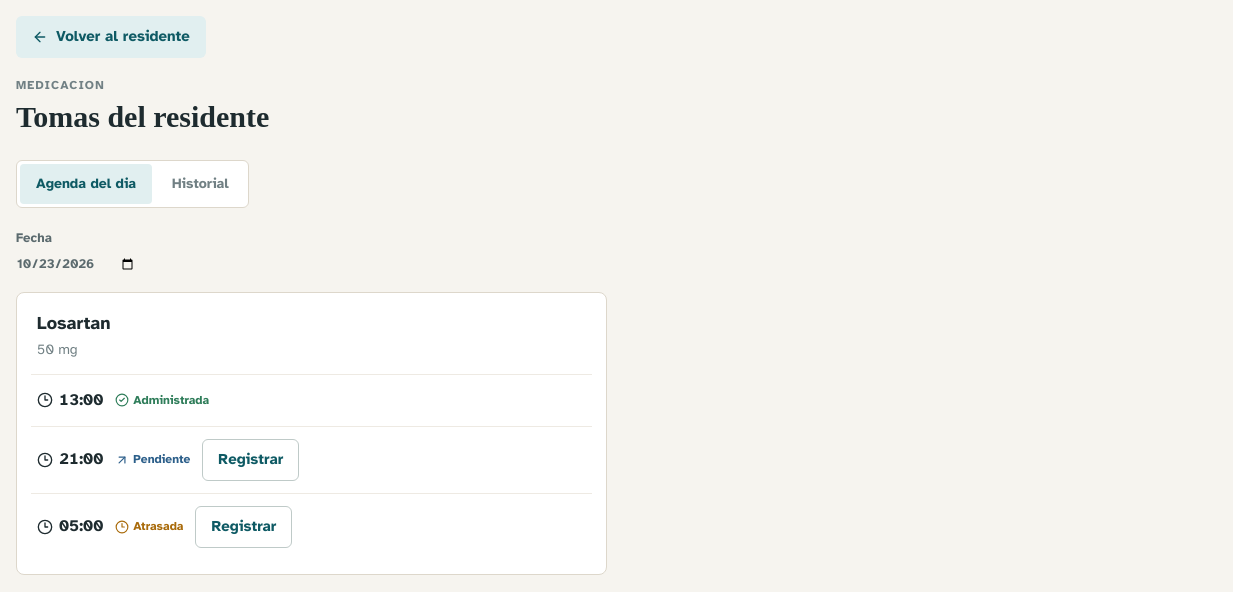
Test: TomasResidente › muestra el historial al cambiar de pestana
Expected: the text "Pendiente" is shown, [115, 450, 190, 469]
Click the tab "Historial".
click(200, 184)  # box [156, 164, 245, 204]
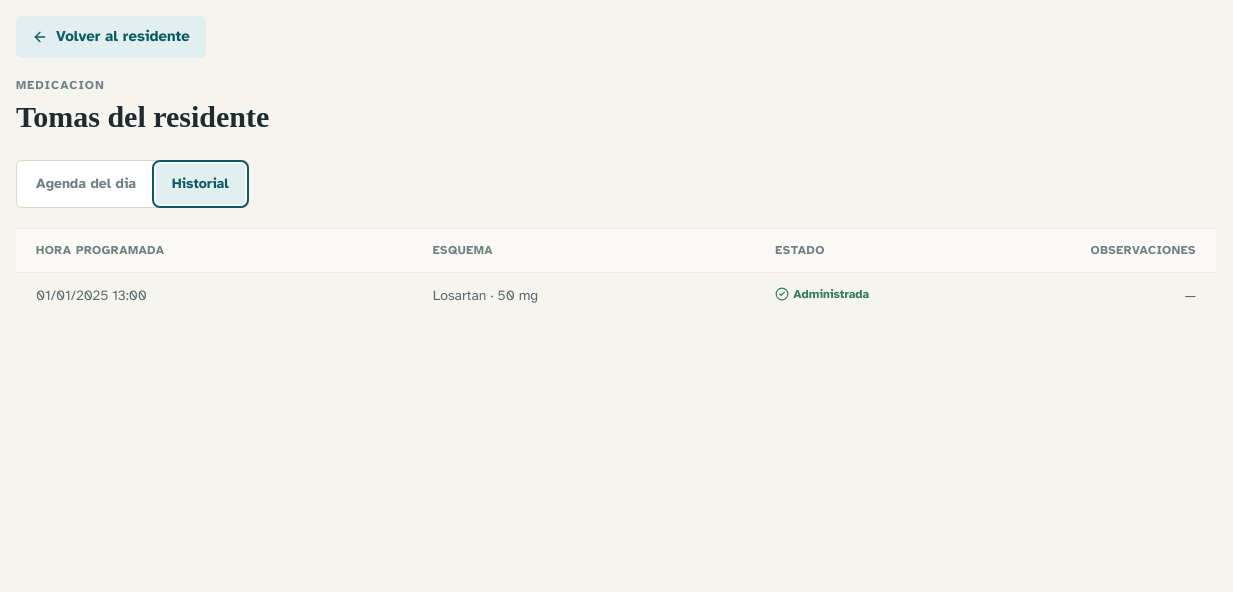
Expected: the text "Losartan · 50 mg" is shown, [413, 272, 755, 320]
